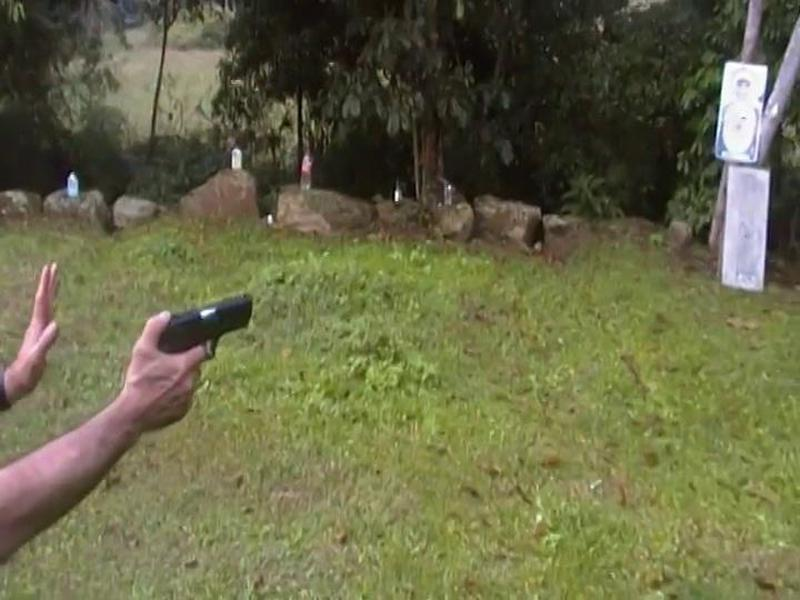Pistola: (125, 274, 278, 394)
